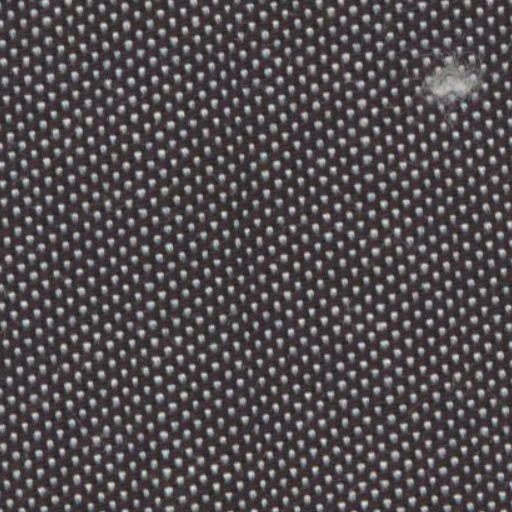PoDong: (410, 40, 496, 127)
